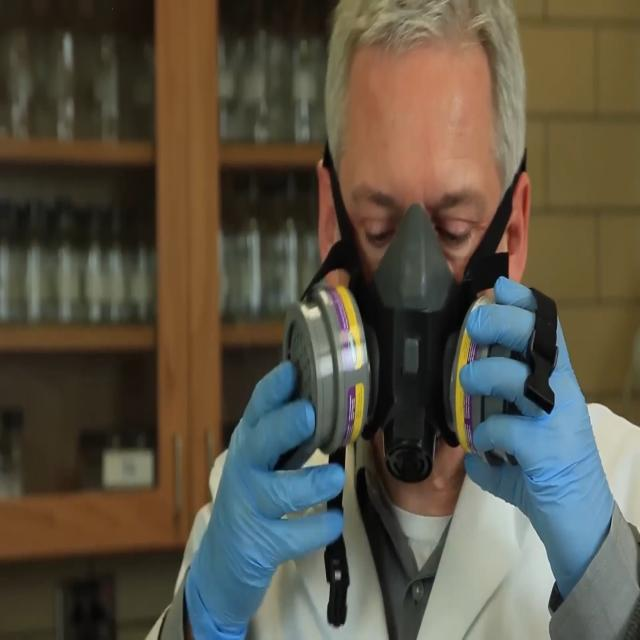labcoat: (141, 378, 640, 640)
